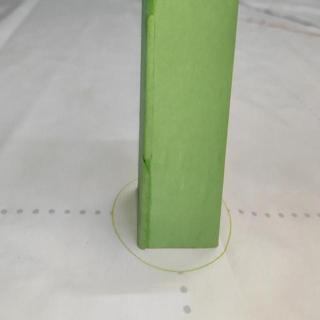greenbox: (138, 0, 238, 250)
